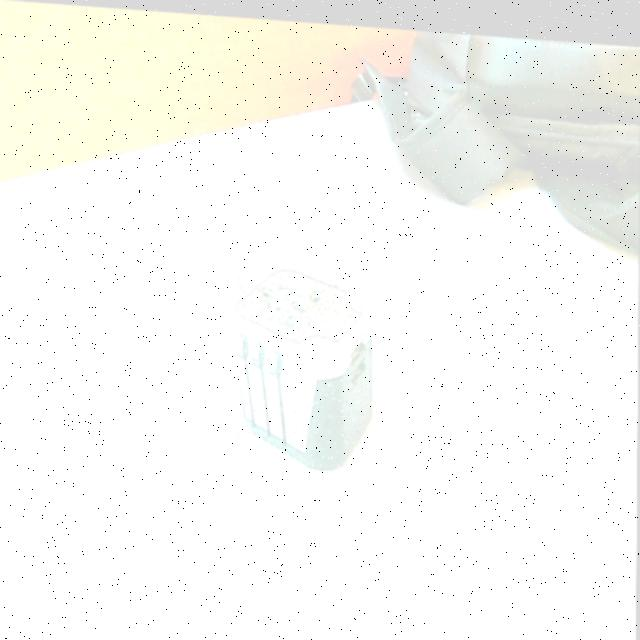adapter: (229, 256, 375, 468)
